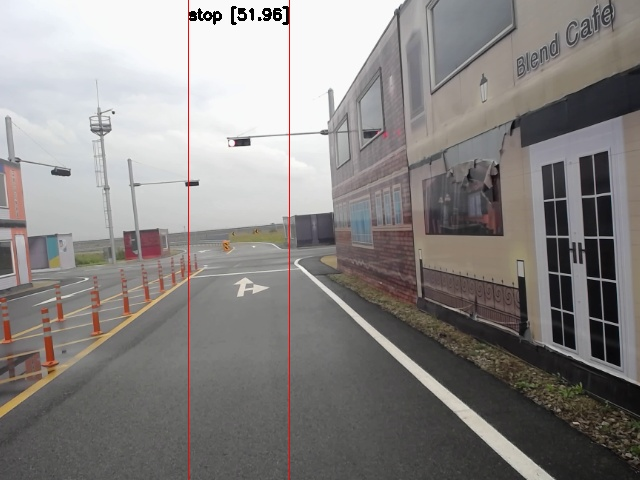red_3: (227, 137, 251, 148)
